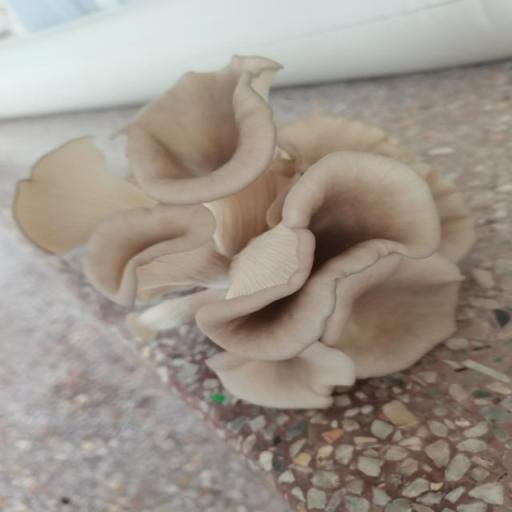White Oyster Mushroom: (0, 52, 489, 427)
